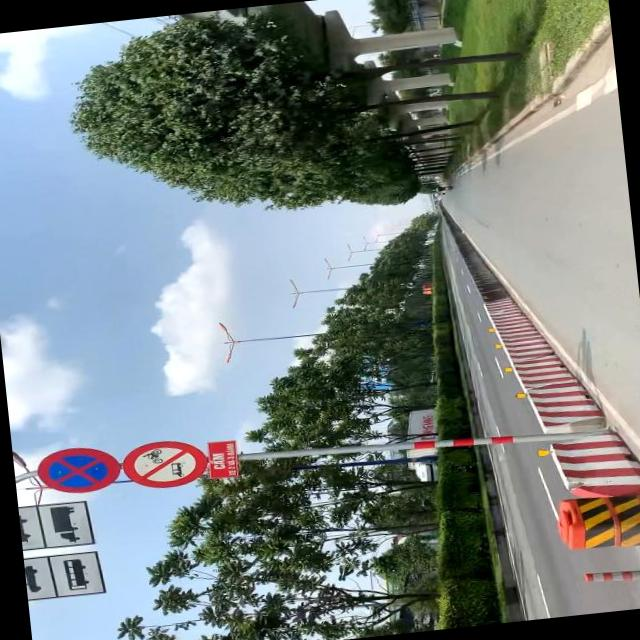P-104: (119, 436, 209, 490)
P-130: (34, 443, 120, 494)
